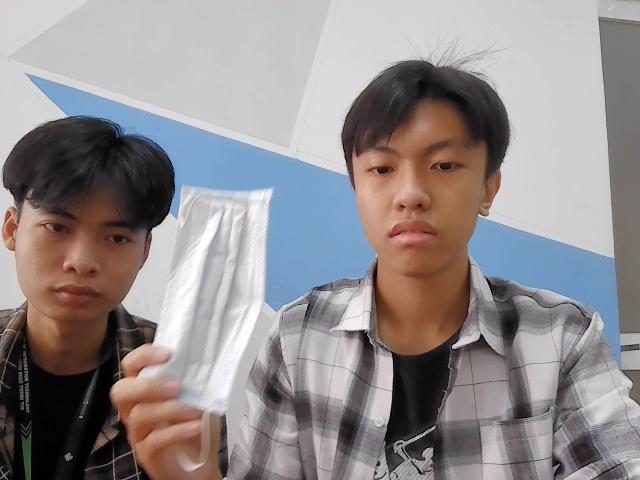human: (341, 48, 512, 274), (8, 112, 162, 321)
mask: (140, 170, 291, 423)
